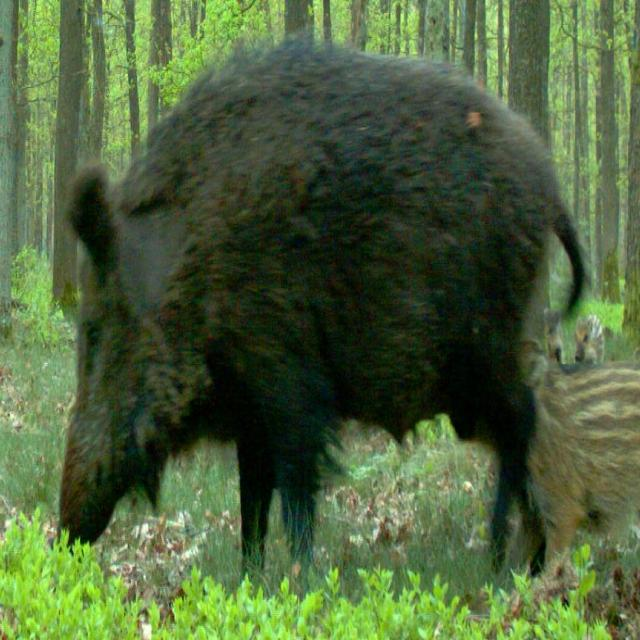pig: (39, 34, 578, 586)
